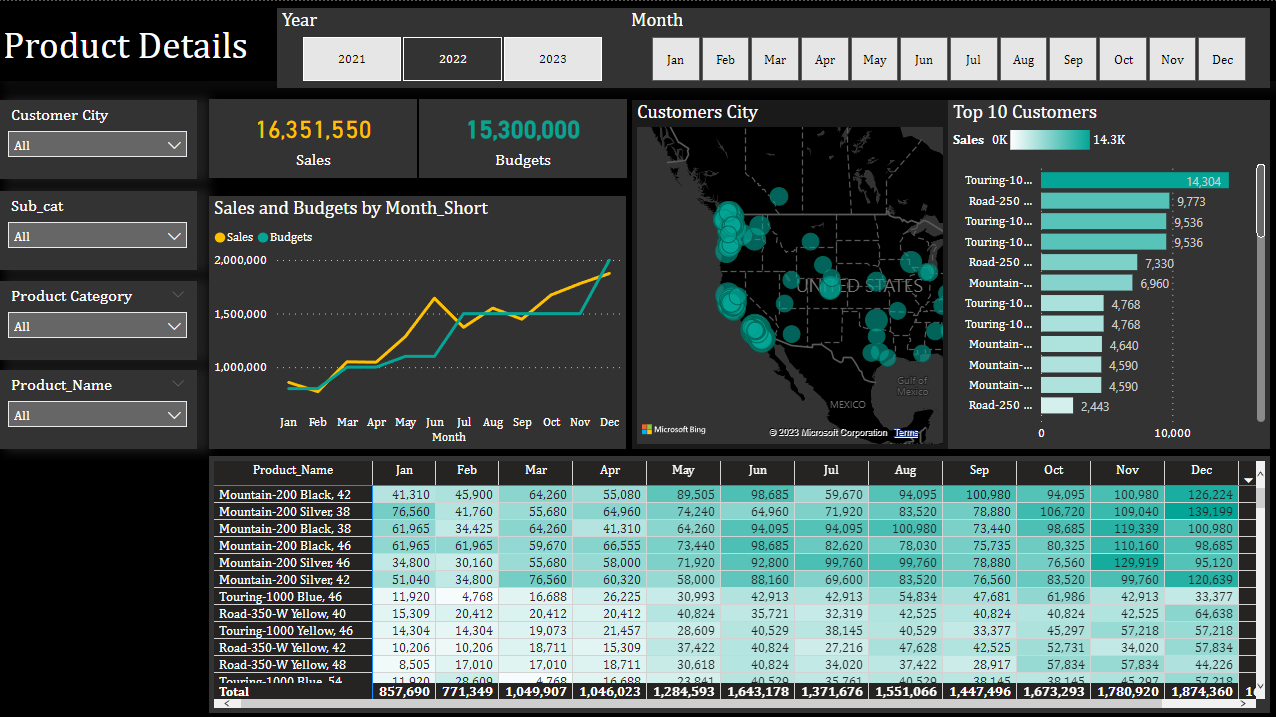

Layout of this report page (visuals, bound fields, positions):
{"tool":"powerbi","page":{"name":"Product Details","canvas":[1280,720],"ordinal":2},"visuals":[{"type":"textbox","box":[0,0,1280,80],"z":0},{"type":"slicer","fields":{"Values":["DIM_Customers.Customer City"]},"box":[0,98.9,198.9,78.9],"z":1000},{"type":"slicer","fields":{"Values":["DIM_Product.Sub_cat"]},"box":[0,190,198.9,78.9],"z":2000},{"type":"slicer","fields":{"Values":["DIM_Product.Product Category"]},"box":[0,280,198.9,78.9],"z":3000},{"type":"slicer","fields":{"Values":["DIM_Product.Product_Name"]},"box":[0,368.9,198.9,78.9],"z":4000},{"type":"slicer","title":"Month","fields":{"Values":["DIM_Calendar_v2.Month_Short"]},"box":[628,7,644,80],"z":5000},{"type":"slicer","title":"Year","fields":{"Values":["DIM_Calendar_v2.Year"]},"box":[279.1,7.3,349.1,80],"z":6000},{"type":"lineChart","fields":{"Y":["Measurement.Sales","Measurement.Budgets"],"Category":["DIM_Calendar_v2.Month_Short"]},"box":[211.3,195.2,416.4,252.5],"z":7000},{"type":"barChart","title":"Top 10 Customers","fields":{"Y":["Measurement.Sales"],"Category":["DIM_Product.Product_Name"]},"box":[950,99.1,321.8,349.1],"z":8000},{"type":"map","title":"Customers City","fields":{"Category":["DIM_Customers.Customer City"],"Size":["Sum(Fact_internet_Sales.Sales_Total)"]},"box":[633.6,99.1,316.4,349.1],"z":9000},{"type":"card","fields":{"Values":["Measurement.Sales"]},"box":[211.2,98.1,208.1,78.8],"z":10000},{"type":"card","fields":{"Values":["Measurement.Budgets"]},"box":[420.6,98.1,208.1,78.8],"z":11000},{"type":"pivotTable","fields":{"Columns":["DIM_Calendar_v2.Month_Short"],"Values":["Measurement.Sales"],"Rows":["DIM_Product.Product_Name"]},"box":[210.9,455.5,1060.9,256.4],"z":12000}]}

Visuals, with their boxes in screenshot pixels (x1, y1, x2, y2), scaled from the page's 1280x720 canvas onto the 1276x717 screenshot:
textbox: l=0, t=0, r=1275, b=80
slicer - DIM_Customers.Customer City: l=0, t=98, r=198, b=177
slicer - DIM_Product.Sub_cat: l=0, t=189, r=198, b=268
slicer - DIM_Product.Product Category: l=0, t=279, r=198, b=357
slicer - DIM_Product.Product_Name: l=0, t=367, r=198, b=446
"Month" slicer: l=626, t=7, r=1268, b=87
"Year" slicer: l=278, t=7, r=626, b=87
lineChart - Measurement.Sales x Measurement.Budgets: l=211, t=194, r=626, b=446
"Top 10 Customers" barChart: l=947, t=99, r=1268, b=446
"Customers City" map: l=632, t=99, r=947, b=446
card - Measurement.Sales: l=211, t=98, r=418, b=176
card - Measurement.Budgets: l=419, t=98, r=627, b=176
pivotTable - DIM_Calendar_v2.Month_Short x Measurement.Sales: l=210, t=454, r=1268, b=709
